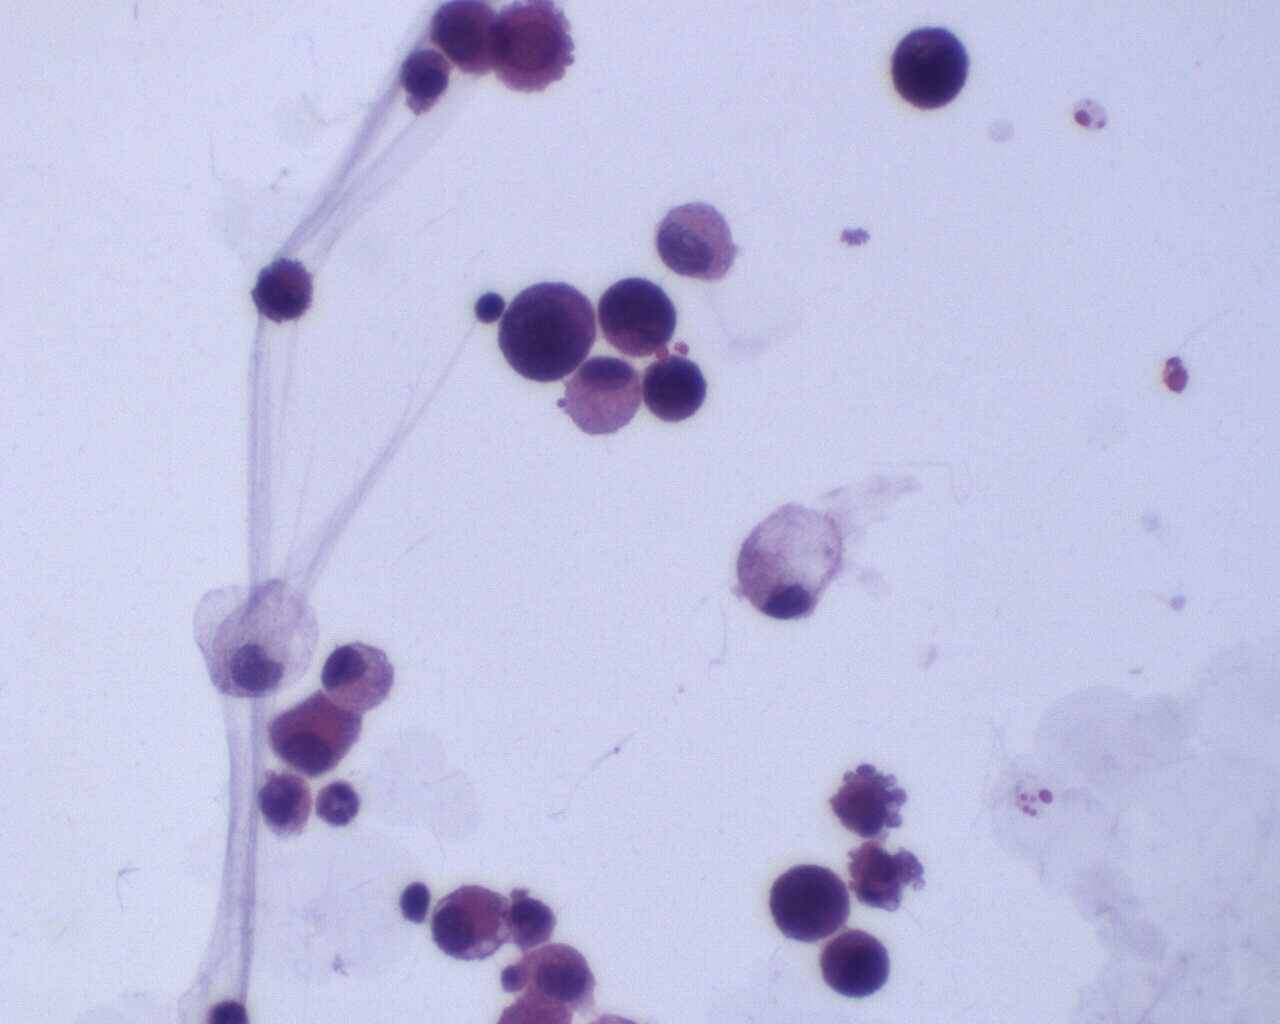ab: (494, 277, 597, 385), (887, 18, 976, 119), (489, 1, 577, 99), (591, 271, 680, 358), (765, 860, 854, 945), (643, 350, 715, 430), (819, 928, 897, 1001), (251, 251, 319, 326)
histo: (191, 572, 323, 699), (734, 499, 846, 626), (317, 635, 401, 713)
lymph: (473, 288, 506, 326)
meso: (559, 352, 639, 439), (429, 879, 510, 964)
